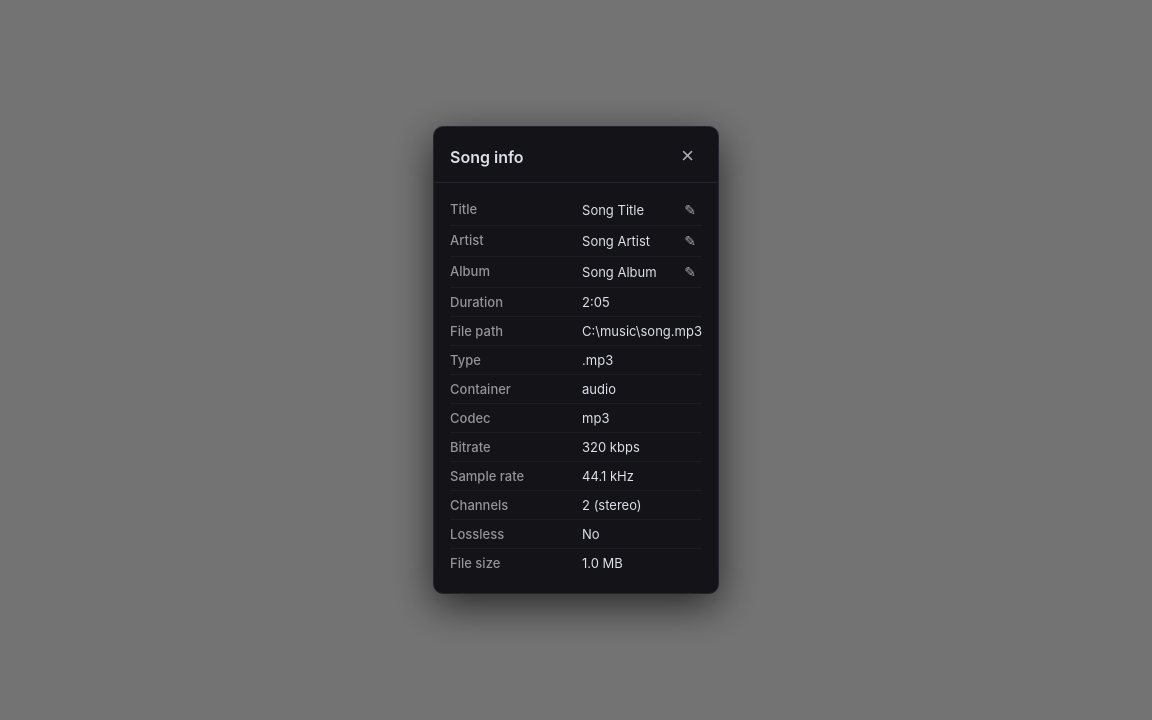
Test: <SongInfoDialog /> › sends IPC and handles success response by exiting edit mode
The width and height of the screenshot is (1152, 720).
Click the button named "Edit Title" at (690, 210), box [678,201,702,219]
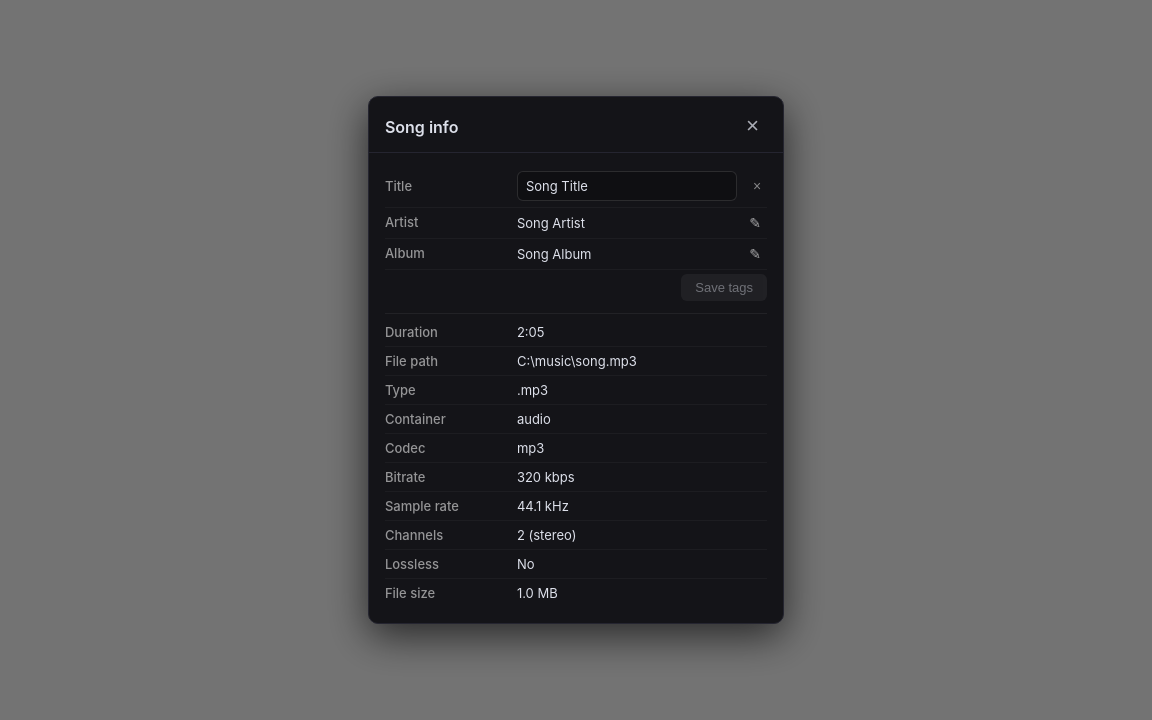
Replace the text in the field with id "song-info-edit-title" with "New Title" at (627, 186), box [517,171,737,201]
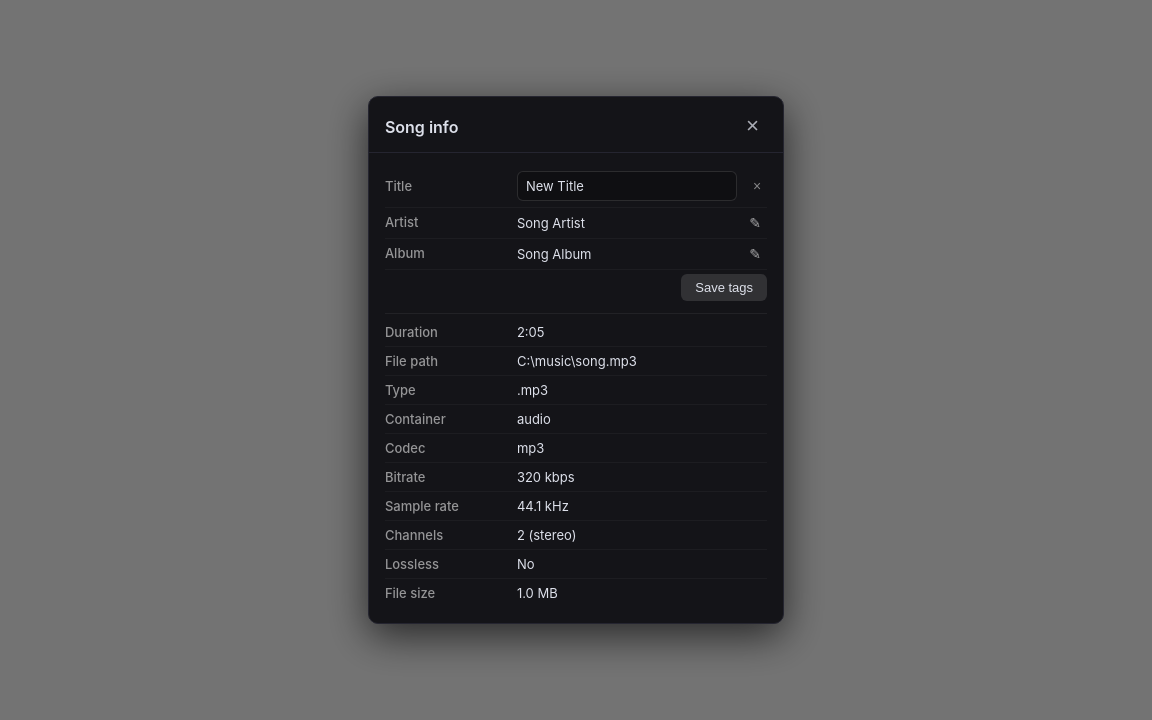
Click the button "Save tags" at (724, 287), box [681,274,767,301]
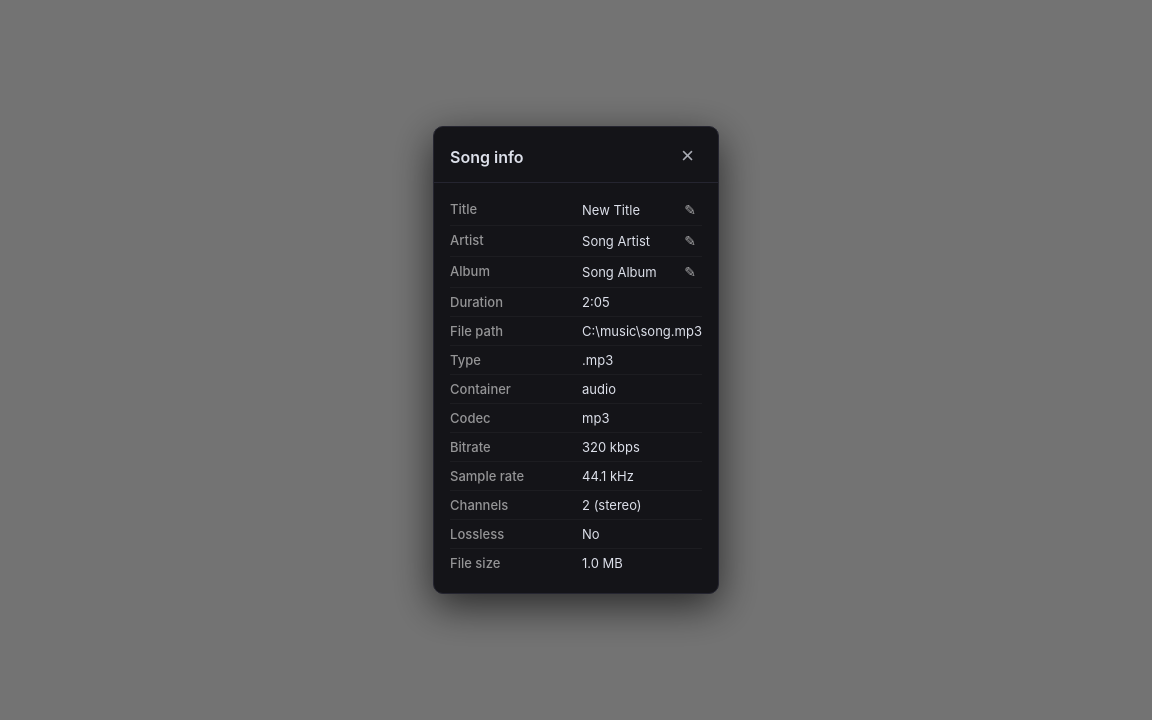
Check: the button "Save tags" is gone
Check: the button named "Edit Title" is shown, box [678,201,702,219]
